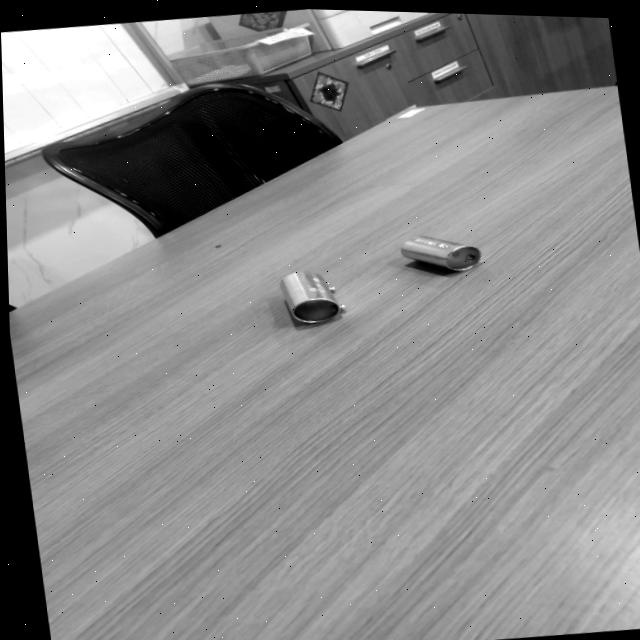Co_Lon: (271, 258, 347, 338)
Co_Nho: (399, 232, 483, 276)
